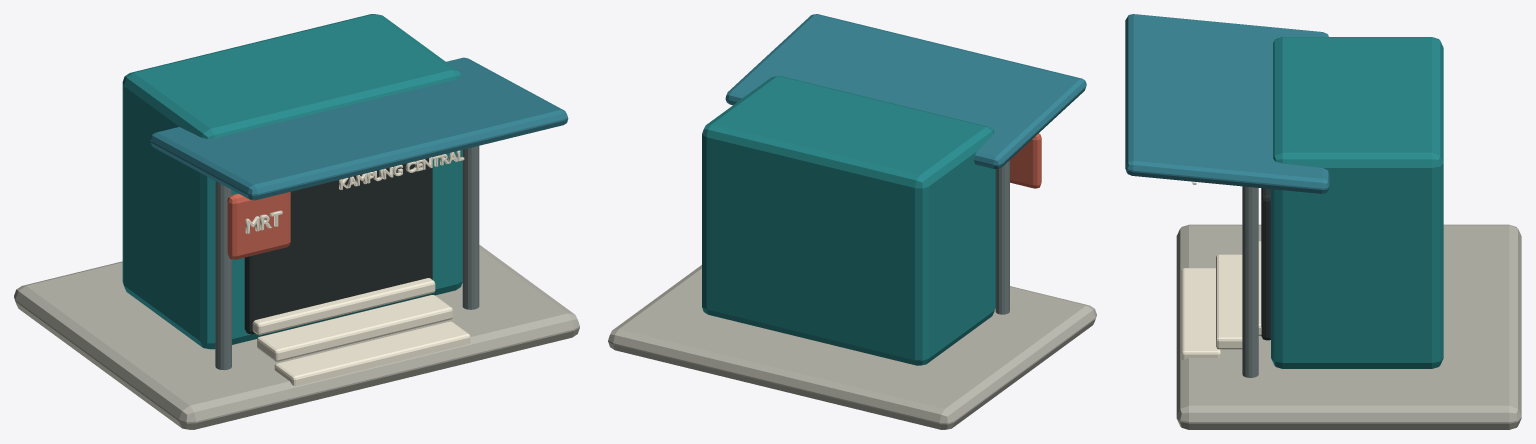
The model's file is mrt-v2.glb.
The picture shows the model from 3 angles, left to right: view 1: azimuth 30°, elevation 25°; view 2: azimuth 150°, elevation 25°; view 3: azimuth 270°, elevation 25°; orthographic projection. The views are drawn at different scales.
Parts seen in each view (by area): view 1: NEIGHBOURHOOD MRT ENTRANCE · Deep teal, NEIGHBOURHOOD MRT ENTRANCE · Concrete, NEIGHBOURHOOD MRT ENTRANCE · Graphic glass, NEIGHBOURHOOD MRT ENTRANCE · Ink, NEIGHBOURHOOD MRT ENTRANCE · Chalk, NEIGHBOURHOOD MRT ENTRANCE · Dark metal, NEIGHBOURHOOD MRT ENTRANCE · Terracotta; view 2: NEIGHBOURHOOD MRT ENTRANCE · Deep teal, NEIGHBOURHOOD MRT ENTRANCE · Concrete, NEIGHBOURHOOD MRT ENTRANCE · Graphic glass, NEIGHBOURHOOD MRT ENTRANCE · Dark metal, NEIGHBOURHOOD MRT ENTRANCE · Terracotta; view 3: NEIGHBOURHOOD MRT ENTRANCE · Deep teal, NEIGHBOURHOOD MRT ENTRANCE · Concrete, NEIGHBOURHOOD MRT ENTRANCE · Graphic glass, NEIGHBOURHOOD MRT ENTRANCE · Chalk, NEIGHBOURHOOD MRT ENTRANCE · Dark metal, NEIGHBOURHOOD MRT ENTRANCE · Ink.
Part boxes in pixels (bbox=[...]): NEIGHBOURHOOD MRT ENTRANCE · Deep teal: bbox=[122, 14, 462, 349]; NEIGHBOURHOOD MRT ENTRANCE · Concrete: bbox=[14, 245, 579, 429]; NEIGHBOURHOOD MRT ENTRANCE · Graphic glass: bbox=[150, 57, 568, 200]; NEIGHBOURHOOD MRT ENTRANCE · Ink: bbox=[244, 158, 432, 334]; NEIGHBOURHOOD MRT ENTRANCE · Chalk: bbox=[245, 150, 470, 386]; NEIGHBOURHOOD MRT ENTRANCE · Dark metal: bbox=[215, 146, 479, 370]; NEIGHBOURHOOD MRT ENTRANCE · Terracotta: bbox=[227, 192, 290, 259]; NEIGHBOURHOOD MRT ENTRANCE · Deep teal: bbox=[702, 76, 995, 365]; NEIGHBOURHOOD MRT ENTRANCE · Concrete: bbox=[608, 265, 1096, 429]; NEIGHBOURHOOD MRT ENTRANCE · Graphic glass: bbox=[725, 14, 1086, 168]; NEIGHBOURHOOD MRT ENTRANCE · Dark metal: bbox=[995, 160, 1009, 314]; NEIGHBOURHOOD MRT ENTRANCE · Terracotta: bbox=[1010, 133, 1041, 188]; NEIGHBOURHOOD MRT ENTRANCE · Deep teal: bbox=[1271, 37, 1443, 368]; NEIGHBOURHOOD MRT ENTRANCE · Concrete: bbox=[1176, 224, 1521, 429]; NEIGHBOURHOOD MRT ENTRANCE · Graphic glass: bbox=[1125, 14, 1329, 193]; NEIGHBOURHOOD MRT ENTRANCE · Chalk: bbox=[1181, 181, 1261, 359]; NEIGHBOURHOOD MRT ENTRANCE · Dark metal: bbox=[1242, 186, 1258, 377]; NEIGHBOURHOOD MRT ENTRANCE · Ink: bbox=[1261, 188, 1270, 340].
Bounding box in the file's own units: 5.5 × 3.38 × 4.82.
